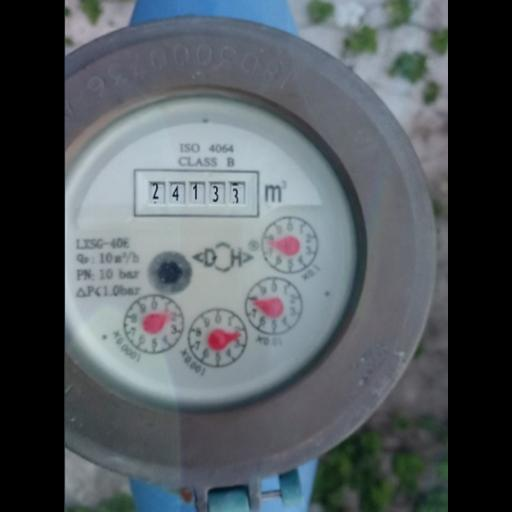1: (191, 182, 206, 204)
2: (150, 183, 165, 206)
3: (231, 183, 245, 204), (212, 183, 225, 204)
4: (171, 182, 186, 204)
border_water_meter_number: (133, 169, 260, 218)
